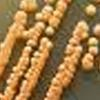orange: (81, 52, 93, 71), (72, 27, 88, 39), (84, 5, 97, 18), (76, 20, 89, 33), (44, 25, 56, 39), (70, 44, 82, 57), (86, 36, 98, 48), (92, 22, 100, 39), (89, 46, 100, 58), (64, 44, 72, 55), (69, 37, 79, 45)
